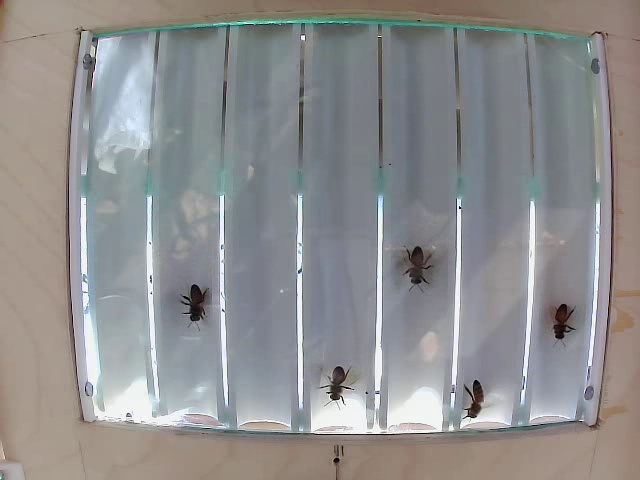bee: (311, 365, 365, 414), (453, 380, 497, 433), (176, 283, 215, 334), (406, 236, 438, 297), (542, 297, 579, 342)
